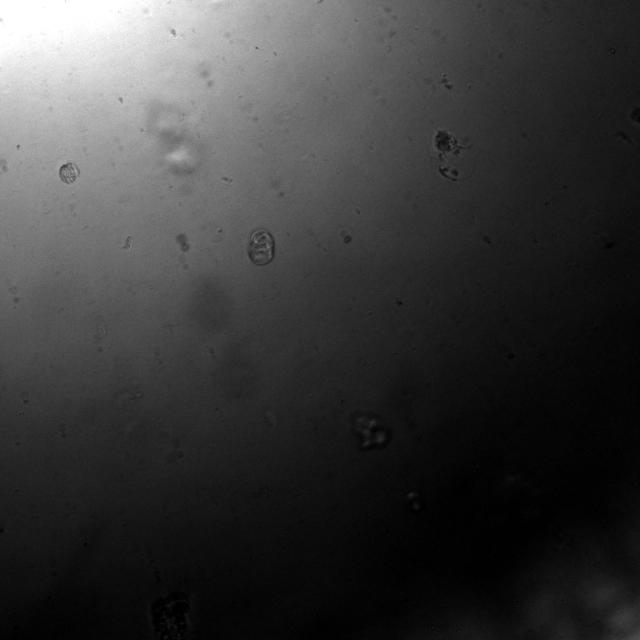organoid: (351, 413, 390, 448), (247, 227, 275, 265), (59, 161, 79, 183)
